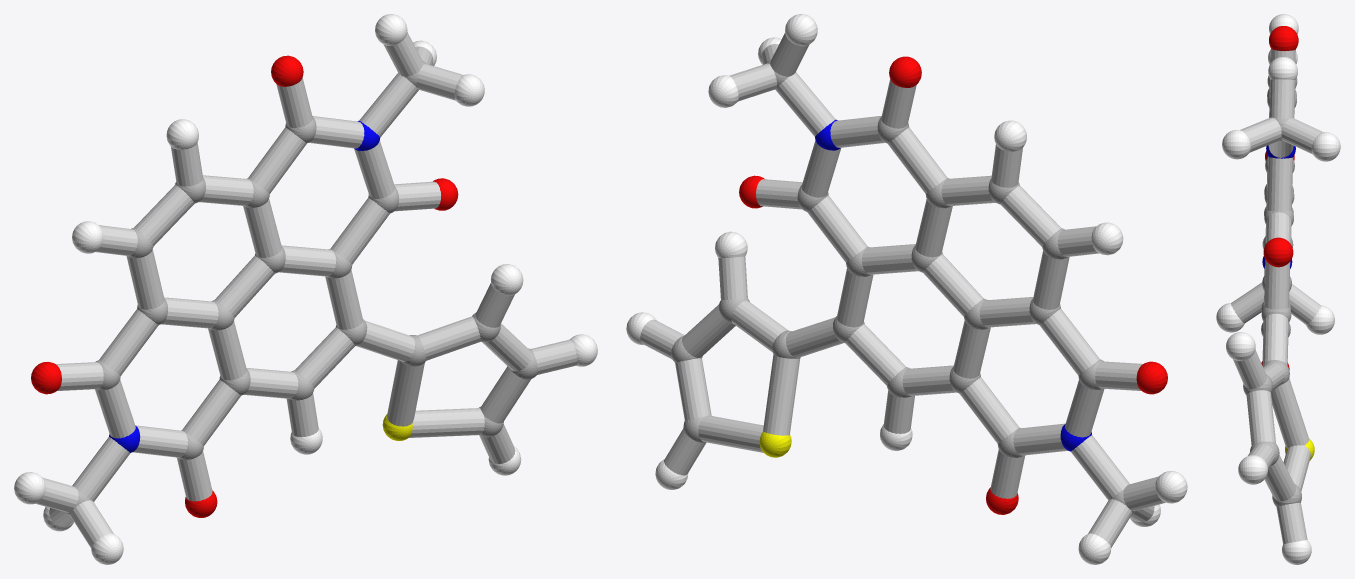
File: Dimethyl_Naphthalene_Dicarboximide_Phi_0_Theta_20_Thiophene.glb
The picture shows the model from 3 angles, left to right: view 1: azimuth 30°, elevation 25°; view 2: azimuth 150°, elevation 25°; view 3: azimuth 270°, elevation 25°; orthographic projection. The views are drawn at different scales.
Visible parts, largest first — view 1: grp14119, grp7241, grp1, grp12309, grp11585; view 2: grp14119, grp7241, grp1, grp12309, grp11585; view 3: grp14119, grp7241, grp1, grp12309, grp11585.
Boxes of the visible parts, left/top/right/bottom form: grp14119: left=35, top=32, right=577, bottom=547; grp7241: left=14, top=14, right=597, bottom=564; grp1: left=65, top=60, right=537, bottom=515; grp12309: left=31, top=55, right=458, bottom=517; grp11585: left=109, top=120, right=380, bottom=452; grp14119: left=640, top=32, right=1165, bottom=547; grp7241: left=626, top=14, right=1187, bottom=564; grp1: left=671, top=60, right=1136, bottom=514; grp12309: left=739, top=56, right=1167, bottom=514; grp11585: left=815, top=119, right=1091, bottom=451; grp14119: left=1231, top=48, right=1323, bottom=544; grp7241: left=1216, top=14, right=1340, bottom=564; grp1: left=1243, top=75, right=1301, bottom=506; grp12309: left=1261, top=26, right=1298, bottom=369; grp11585: left=1262, top=145, right=1295, bottom=268.
Bounding box in the file's own units: 12.03 × 10.02 × 2.5.
